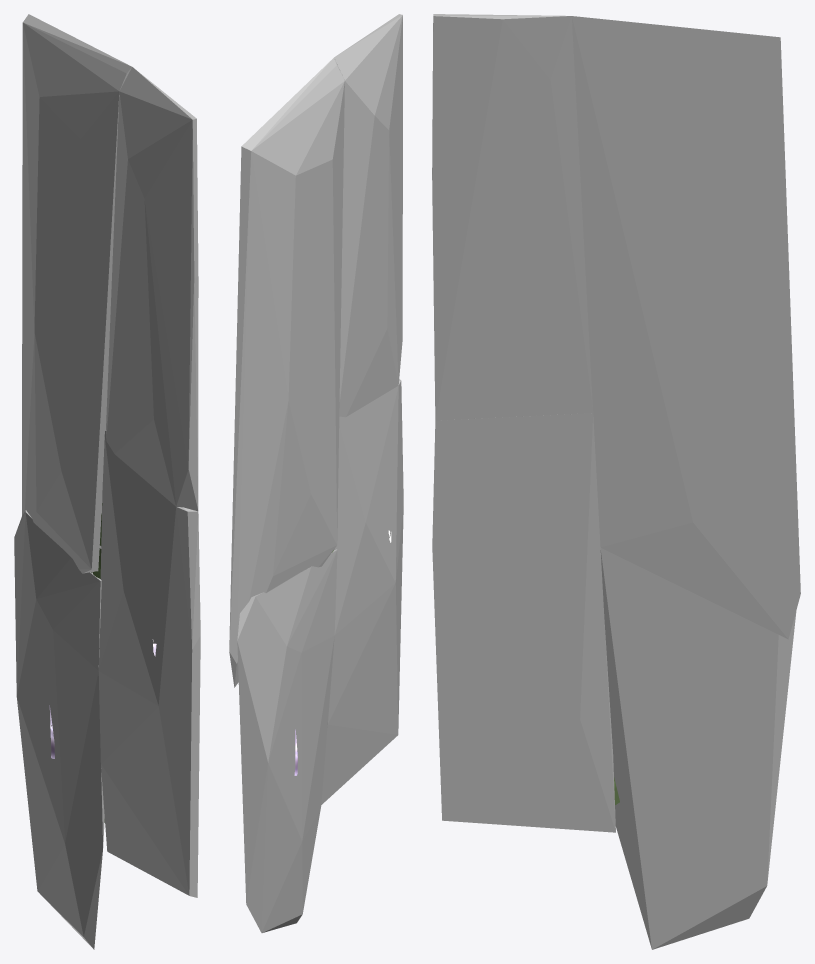
File: SM_Env_Vines_Preset_Wall_05.fbx
3 renders of one model, left to right at view 1: azimuth 30°, elevation 25°; view 2: azimuth 150°, elevation 25°; view 3: azimuth 270°, elevation 25°, orthographic. The views are drawn at different scales.
Parts seen in each view (by area): view 1: SM_Env_Vines_Preset_Wall_05_ConvexHulls; view 2: SM_Env_Vines_Preset_Wall_05_ConvexHulls; view 3: SM_Env_Vines_Preset_Wall_05_ConvexHulls.
Part boxes in pixels (<box>): SM_Env_Vines_Preset_Wall_05_ConvexHulls: <box>14,14,200,949</box>; SM_Env_Vines_Preset_Wall_05_ConvexHulls: <box>229,14,403,932</box>; SM_Env_Vines_Preset_Wall_05_ConvexHulls: <box>432,14,800,949</box>.
Size of the model in its own units: 10.19 by 114 by 318.
Materials: 3 (2 with a texture image).
